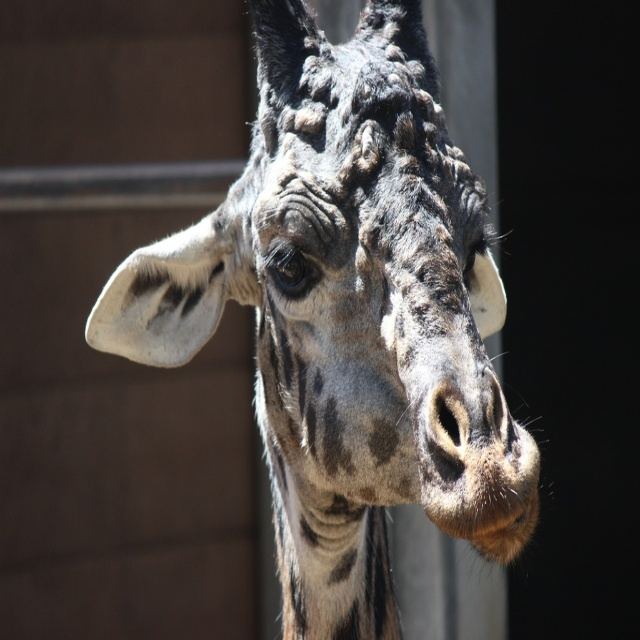Giraffe: (80, 0, 554, 639)
